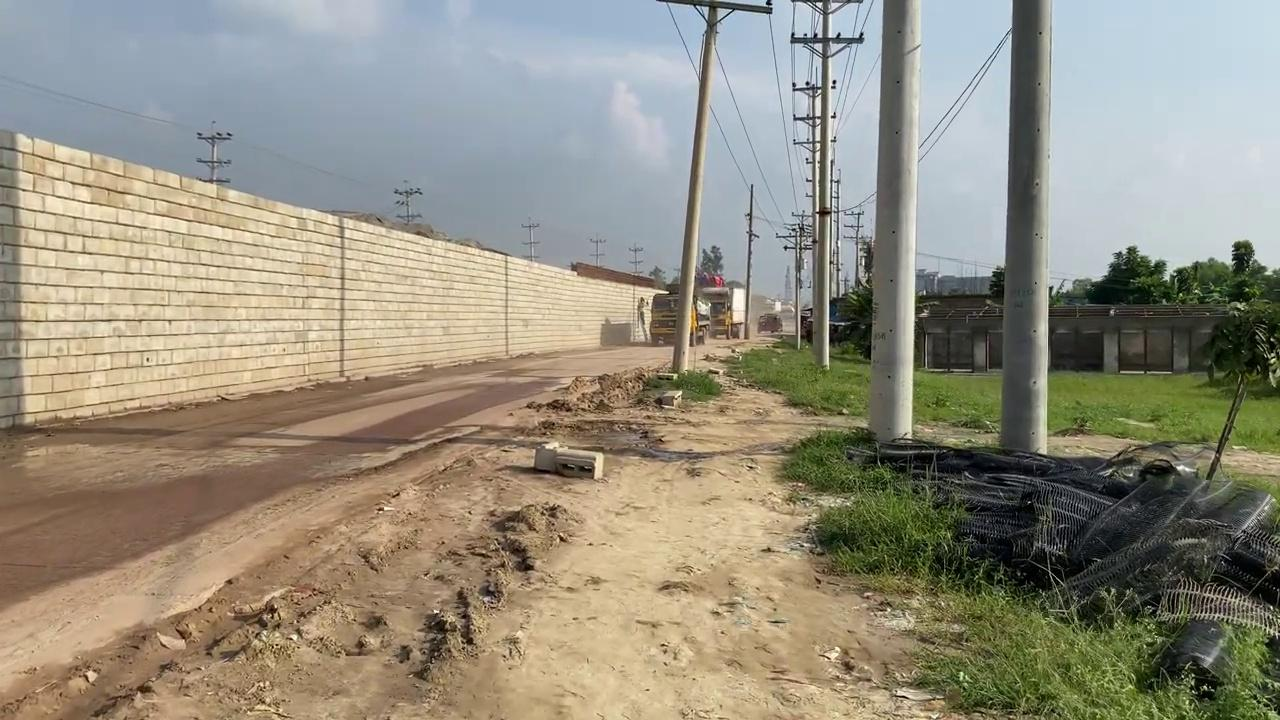Garbage: (843, 436, 1278, 696)
Obstacle: (532, 441, 604, 480), (656, 388, 682, 408)
Pole: (790, 0, 864, 370), (866, 0, 921, 443), (999, 0, 1052, 454), (670, 6, 718, 374)
Rickshaw: (294, 335, 958, 716)
Tree: (667, 270, 733, 339), (697, 285, 733, 339)
Upstairs: (0, 128, 669, 430)
